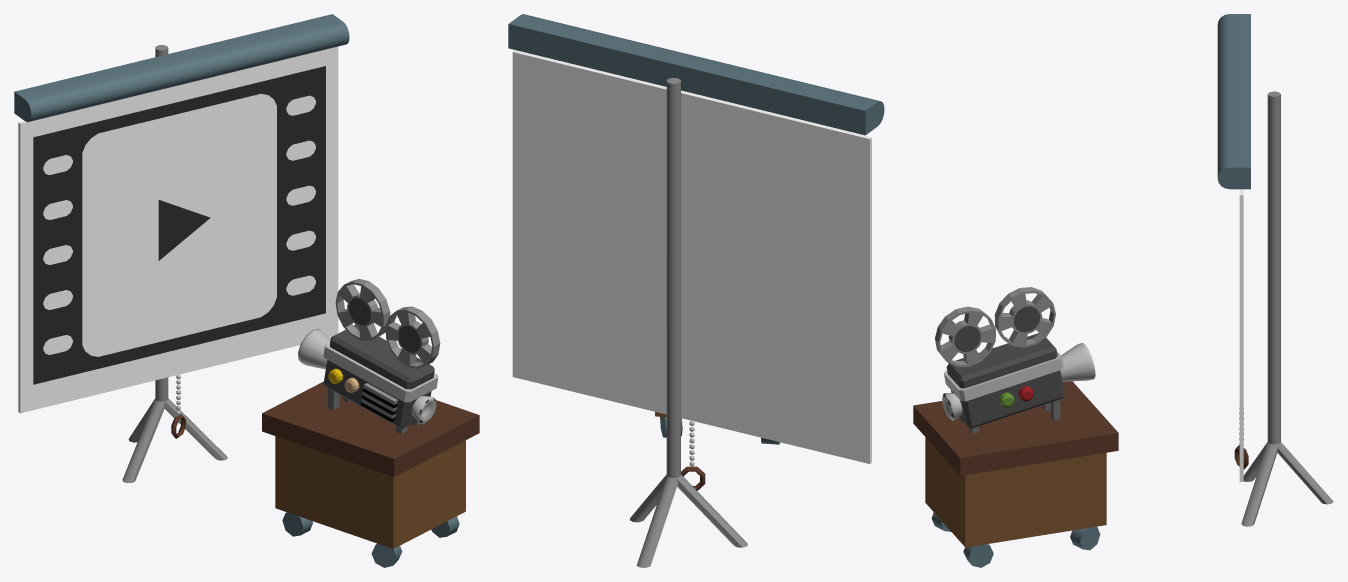
The model's file is l_video_television_1.glb.
The picture shows the model from 3 angles, left to right: view 1: azimuth 30°, elevation 25°; view 2: azimuth 150°, elevation 25°; view 3: azimuth 270°, elevation 25°; orthographic projection. The views are drawn at different scales.
Parts seen in each view (by area): view 1: Cylinder; view 2: Cylinder; view 3: Cylinder.
Boxes of the visible parts, left/top/right/bottom form: Cylinder: left=14, top=14, right=479, bottom=567; Cylinder: left=508, top=14, right=884, bottom=567; Cylinder: left=913, top=14, right=1333, bottom=567.
Size of the model in its own units: 1.37 by 1.71 by 1.59.
1 material, 1 textured.
